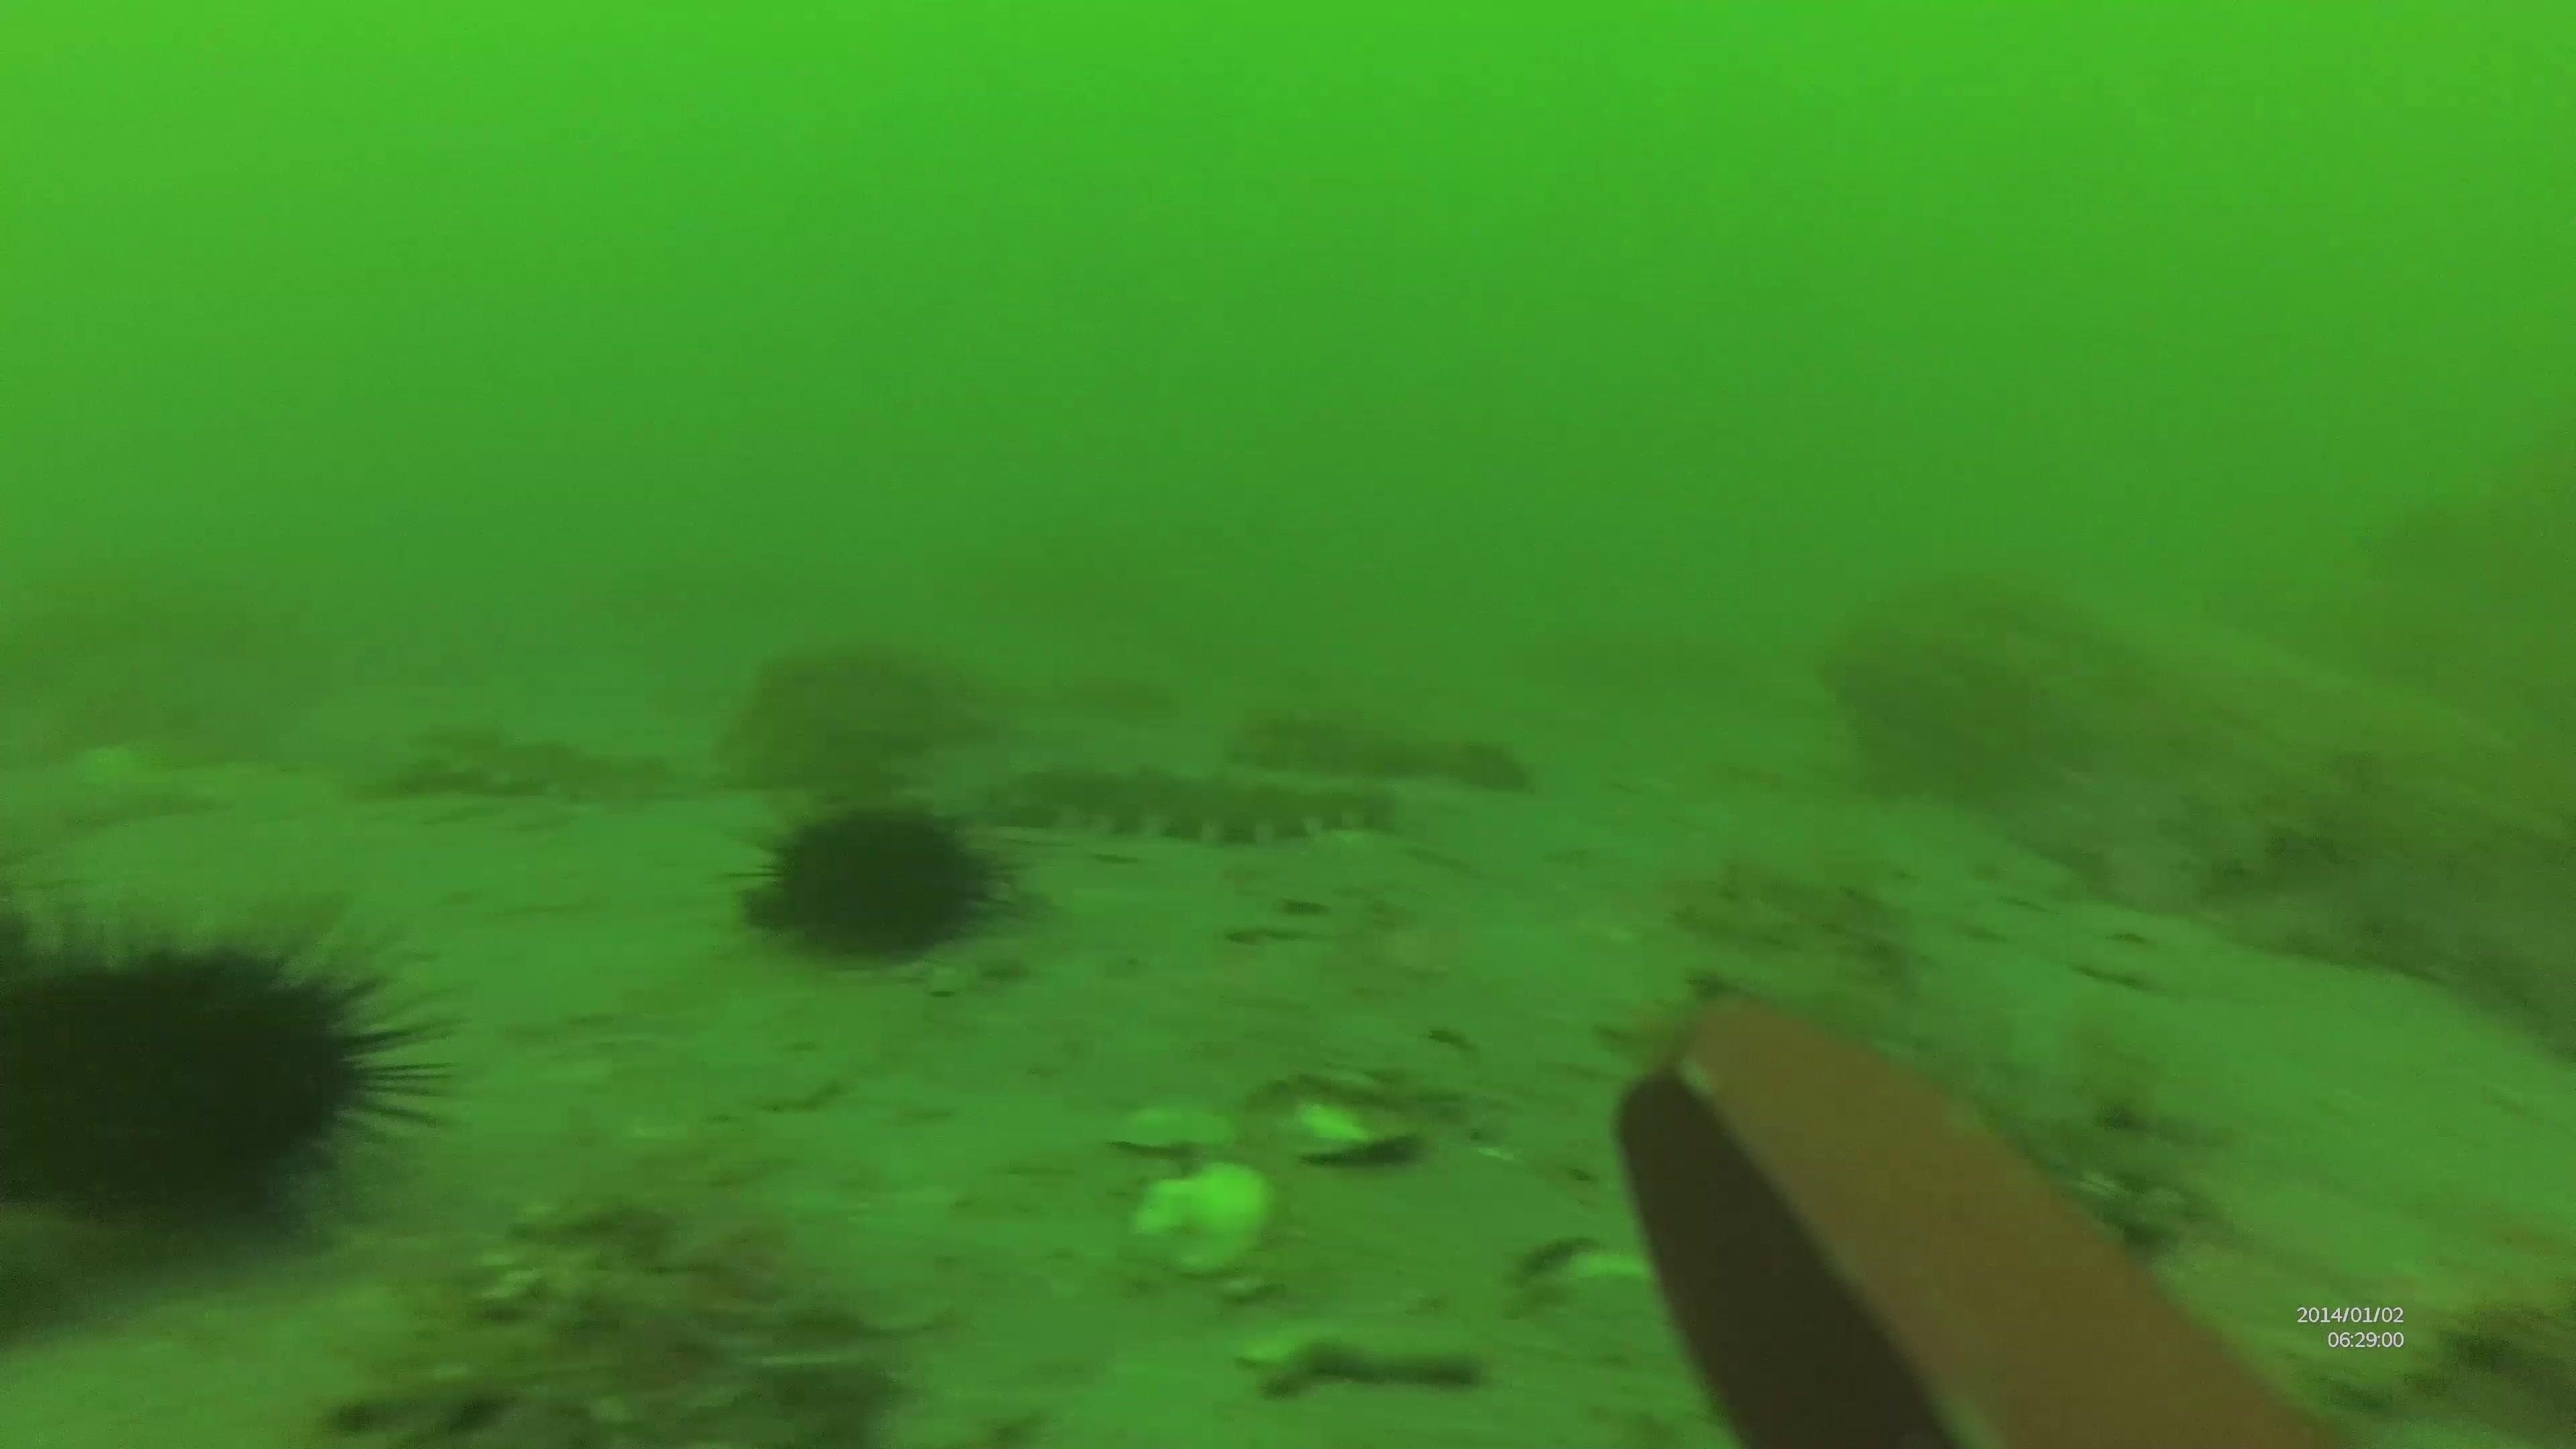echinus: (0, 890, 456, 1251), (734, 793, 1008, 970)
holothurian: (985, 748, 1392, 858), (377, 706, 720, 814)
